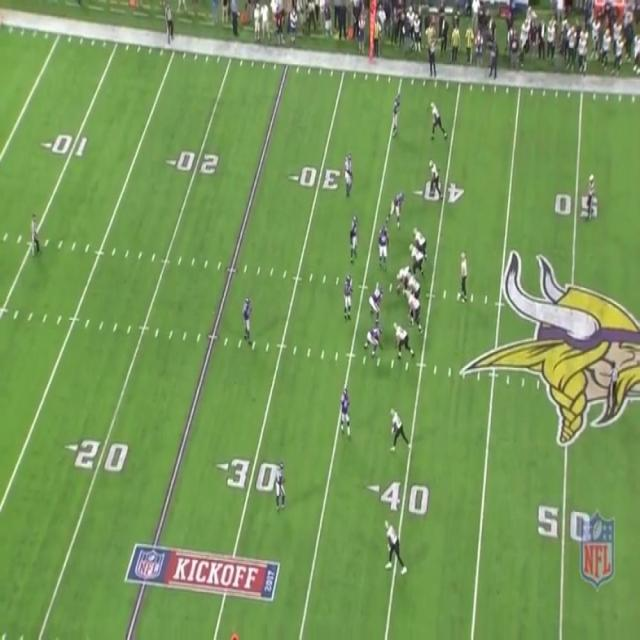center: (396, 267, 403, 287)
db: (274, 462, 286, 505), (242, 296, 252, 344), (346, 154, 355, 198), (340, 389, 349, 432), (393, 98, 402, 139)
lb: (350, 218, 358, 262), (345, 276, 353, 317)
qb: (456, 250, 469, 298)
skill: (386, 521, 402, 573), (394, 320, 412, 358), (392, 408, 407, 452), (430, 100, 443, 139), (430, 164, 439, 192)
